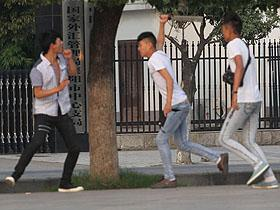no_mask: (37, 28, 65, 58), (218, 14, 244, 43), (134, 32, 156, 59)
